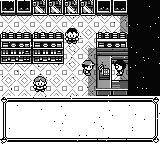leer: (98, 64, 111, 81)
main: (82, 60, 94, 76)
no-caminable: (128, 0, 160, 97), (1, 32, 64, 64), (32, 0, 95, 16), (97, 32, 129, 56), (95, 0, 128, 15), (1, 0, 31, 16), (112, 80, 128, 94), (96, 81, 112, 95), (98, 56, 111, 64)
npc: (65, 28, 79, 44), (33, 76, 47, 92), (113, 59, 126, 76)
